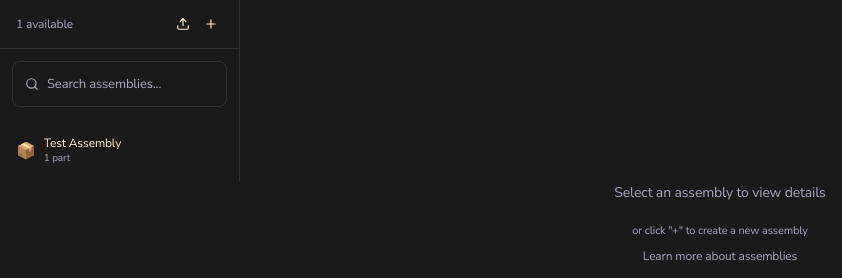
Test: AssembliesTab › search › shows no match message when search has no results
The width and height of the screenshot is (842, 278).
Type "zzz" into the field with placeholder "Search assemblies..." at point(130, 84), box [47,70,214,98]
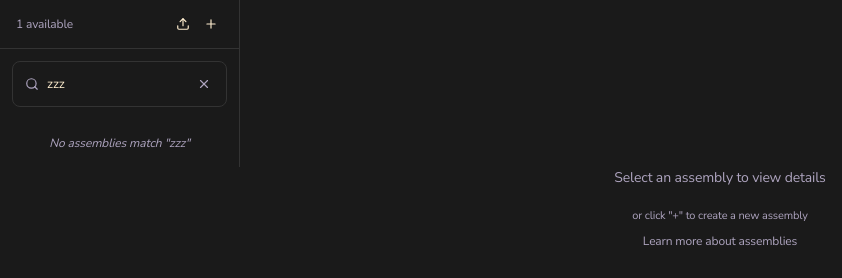
Now the text "No assemblies match \"zzz\"" is shown, box [49,135,190,151]
